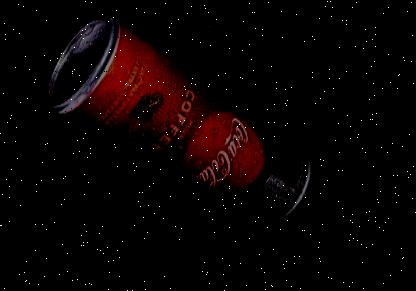Can: (43, 12, 315, 231)
